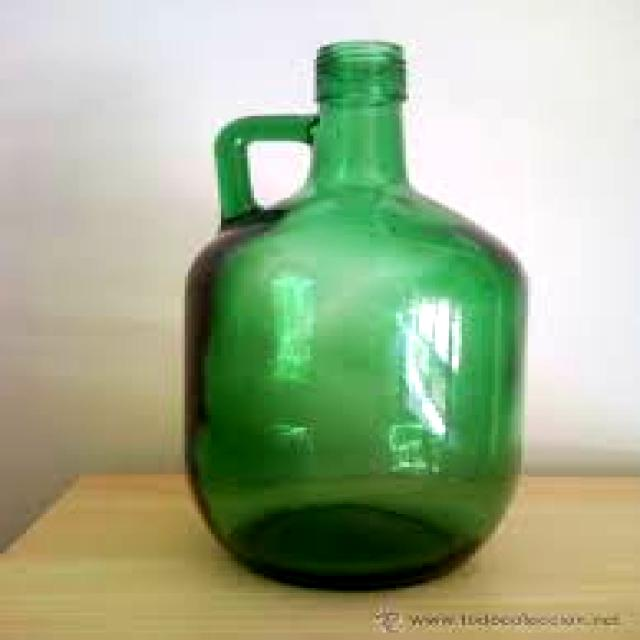Glass: (177, 36, 534, 597)
